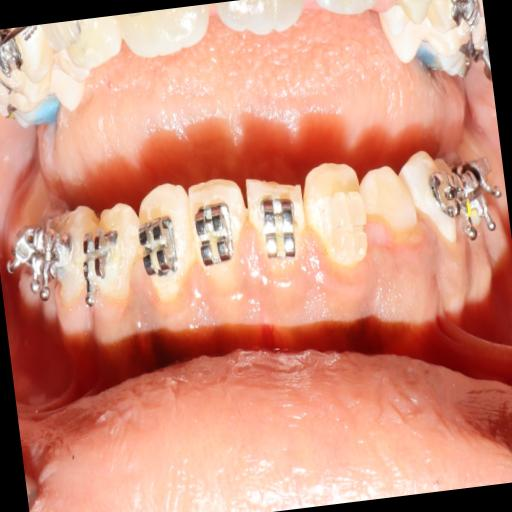correct_brace: (190, 195, 240, 270), (134, 209, 182, 283), (258, 188, 302, 268), (77, 222, 121, 288)
incorrect_brace: (298, 152, 374, 270), (130, 180, 200, 306)
